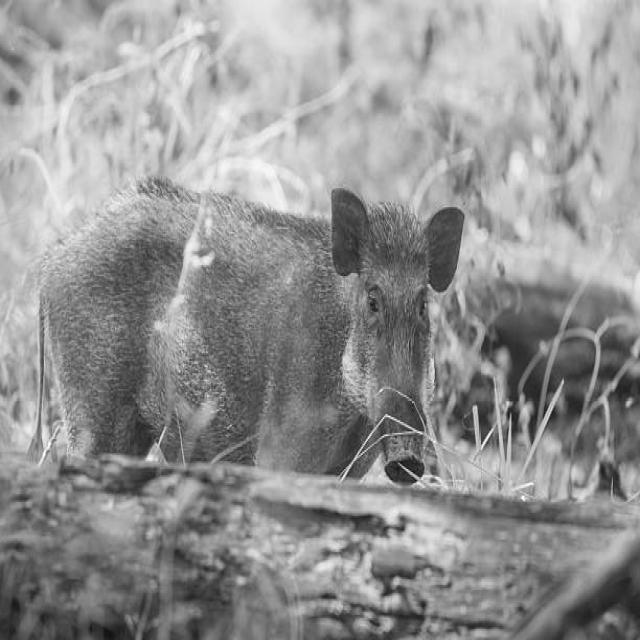boar: (38, 176, 461, 480)
